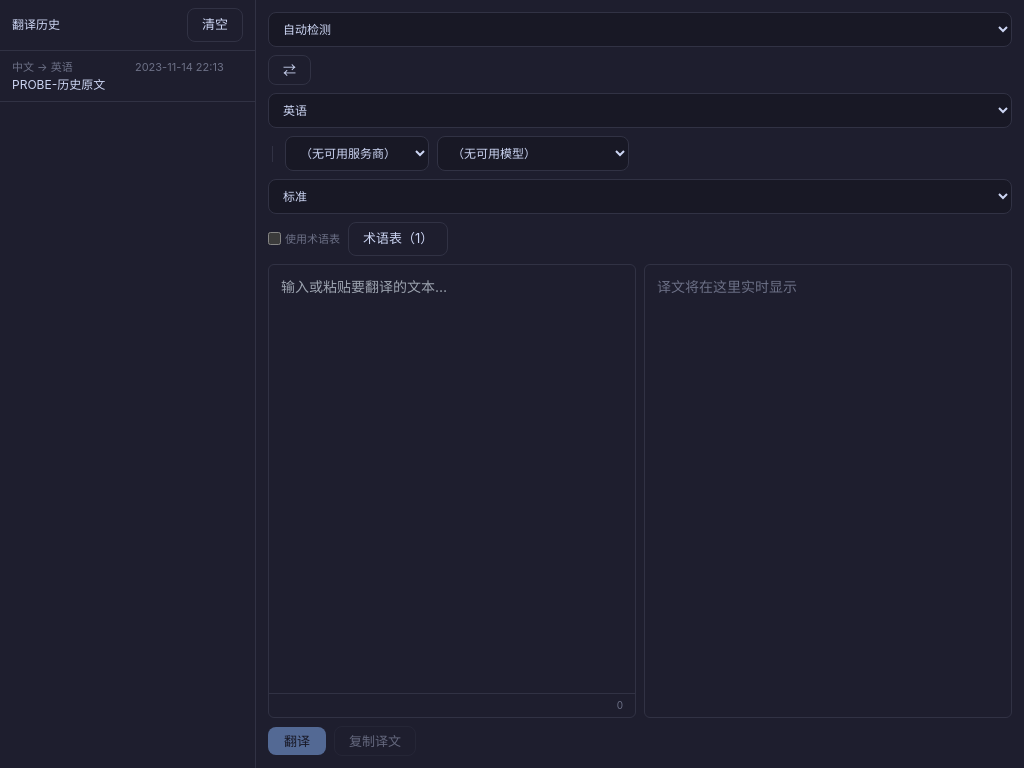
Test: 清空历史：{ok:true} 是成功，不是失败 › 失败侧仍要说话，并留住列表
Click the button "清空" at (215, 25), box [187,8,243,42]
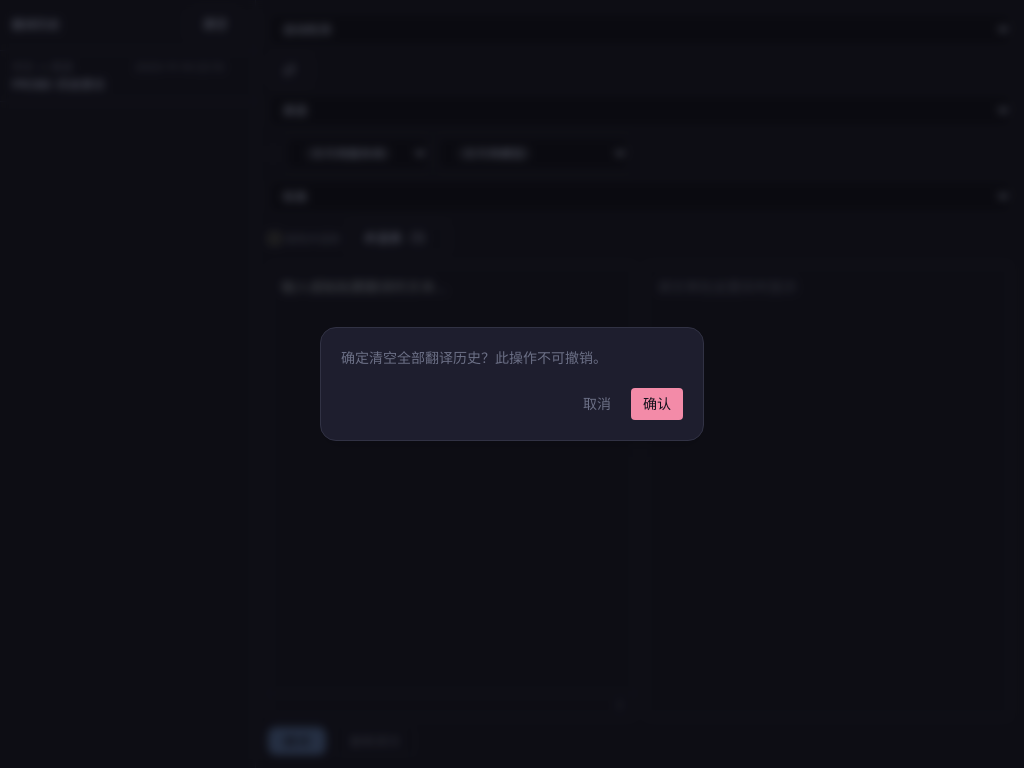
Click the button "确认" at (657, 404), box [631,388,683,420]
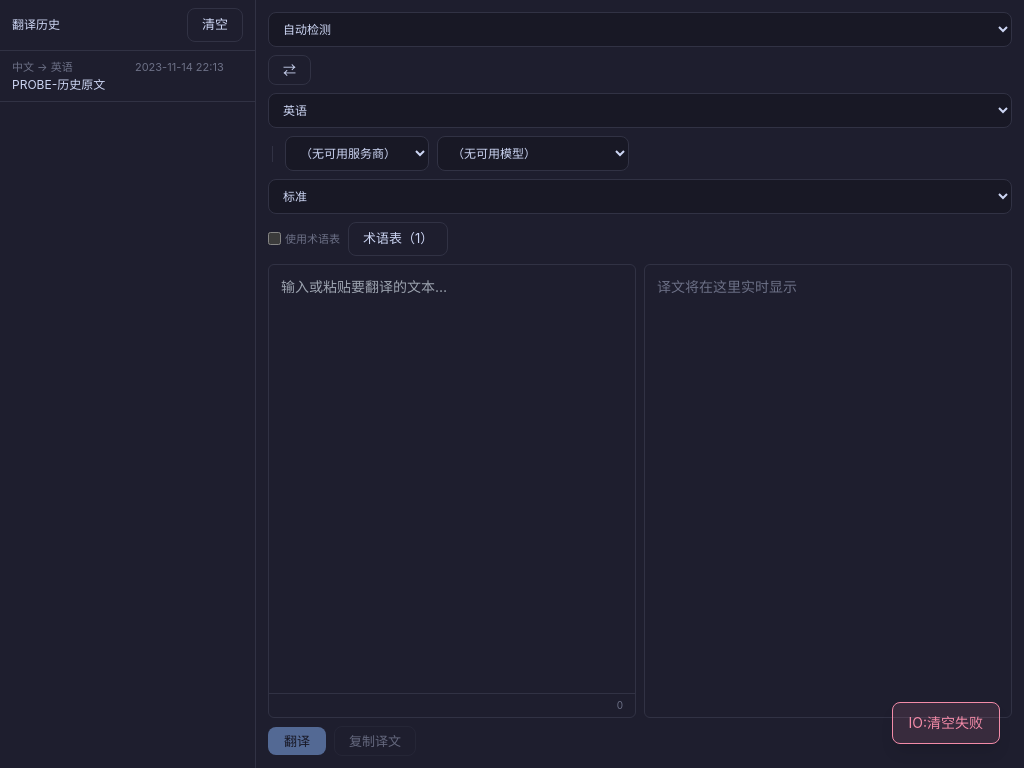
expect the text "PROBE-历史原文" is shown: met, box [12,77,105,92]
expect the message reads "IO:清空失败": met, box [908,714,983,731]
